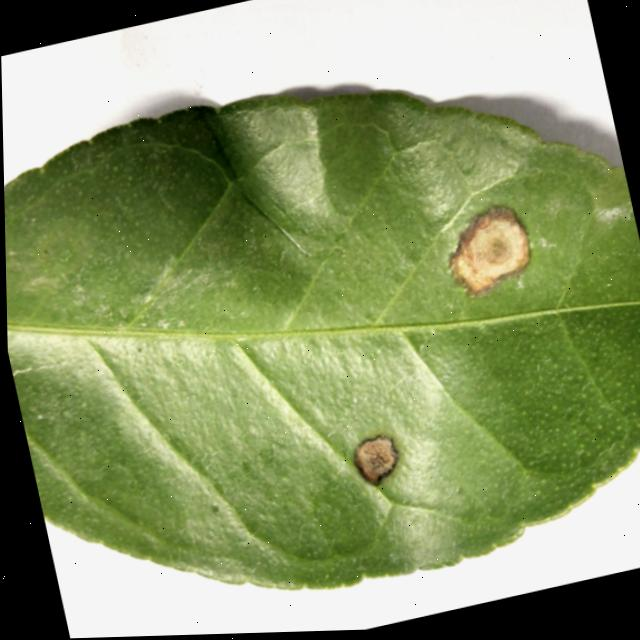antracnose: (4, 92, 640, 588), (450, 207, 530, 294), (355, 437, 398, 484)
